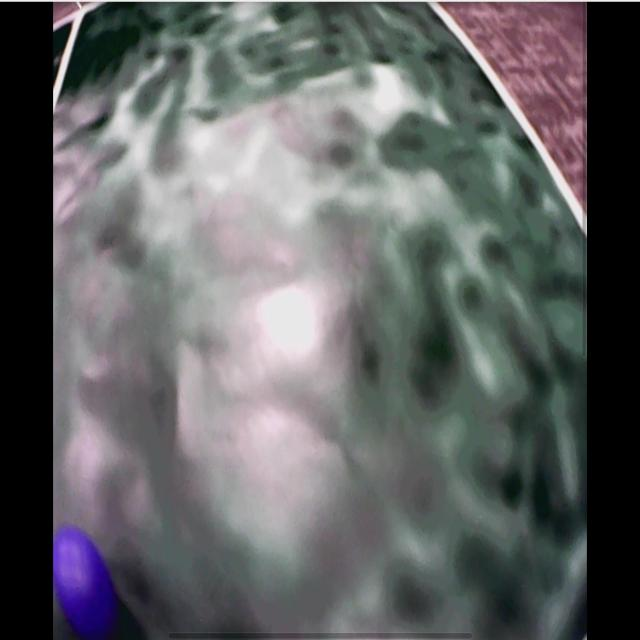ball: (54, 526, 116, 636)
